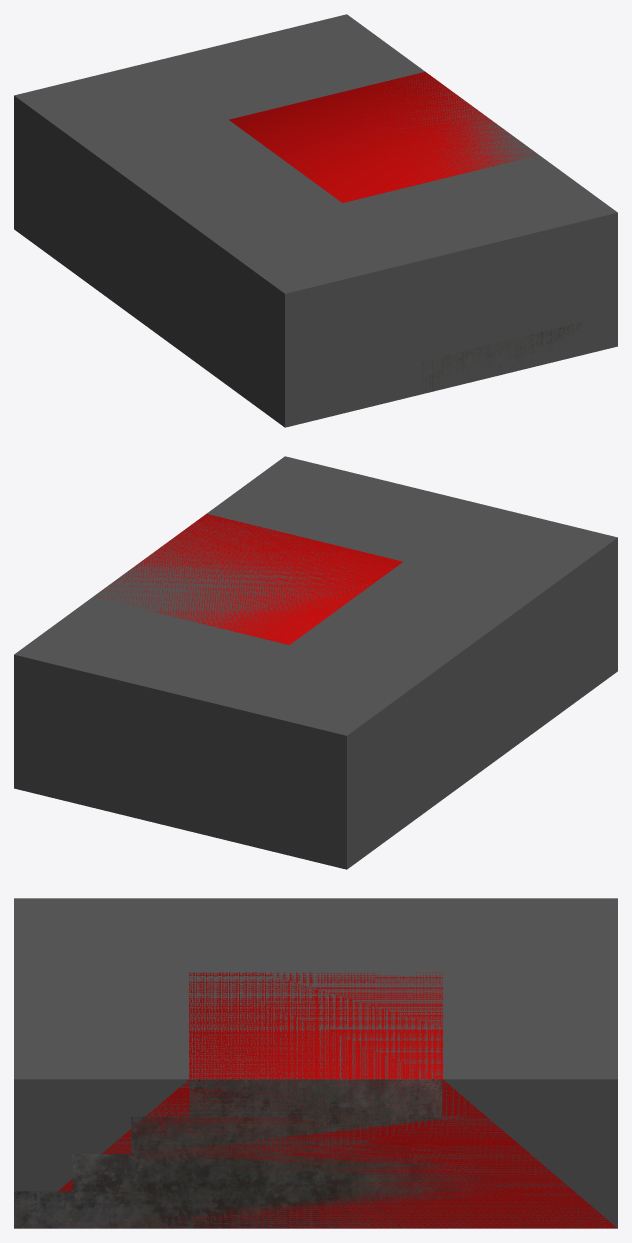
File: SciFi_outside_steps.DAE
The picture shows the model from 3 angles, top to bottom: view 1: azimuth 30°, elevation 25°; view 2: azimuth 150°, elevation 25°; view 3: azimuth 270°, elevation 25°; orthographic projection. The views are drawn at different scales.
Visible parts, largest first — view 1: bounds, col-01, SciFi_Outside_Steps; view 2: bounds, col-01; view 3: bounds, col-01, SciFi_Outside_Steps.
Part boxes in pixels (bbox=[...]): bounds: bbox=[14, 14, 617, 427]; col-01: bbox=[229, 71, 537, 202]; SciFi_Outside_Steps: bbox=[422, 318, 613, 393]; bounds: bbox=[14, 456, 617, 869]; col-01: bbox=[93, 513, 402, 644]; bounds: bbox=[14, 898, 617, 1228]; col-01: bbox=[20, 972, 617, 1228]; SciFi_Outside_Steps: bbox=[14, 1079, 605, 1228].
Bounding box in the file's own units: 344 × 486 × 132.
